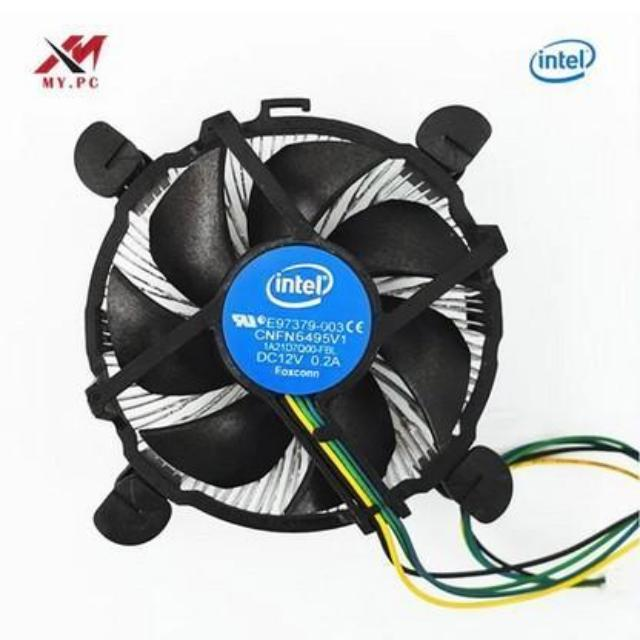CPU_Fan: (77, 98, 512, 554)
